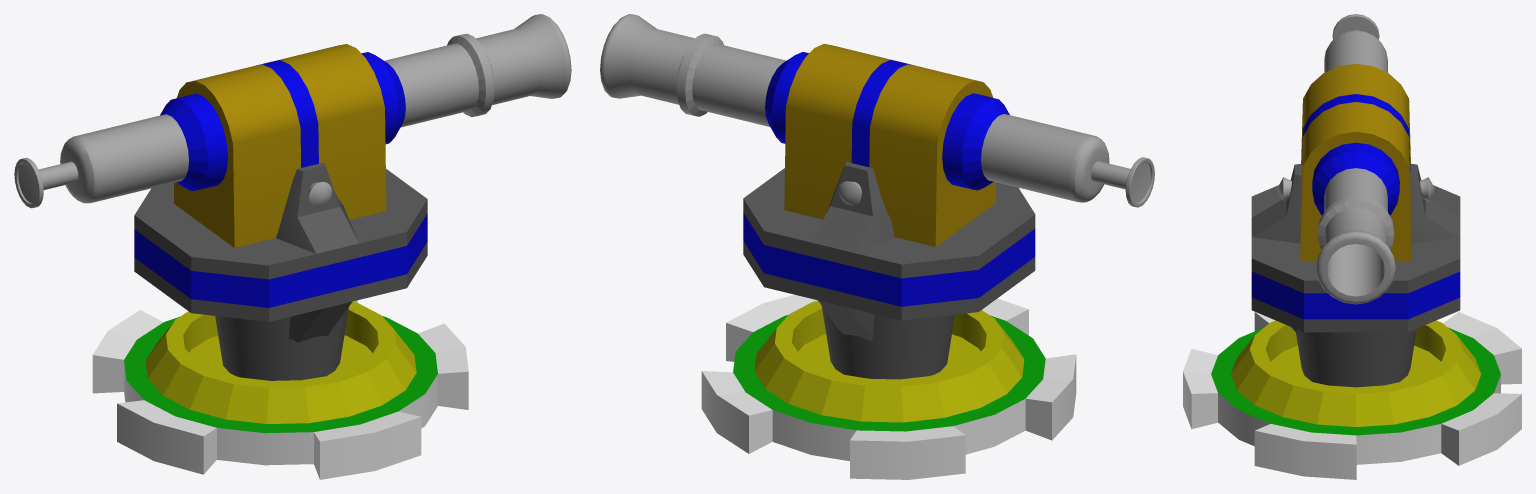
Rendered from machine8.fbx.
3 renders of one model, left to right at view 1: azimuth 30°, elevation 25°; view 2: azimuth 150°, elevation 25°; view 3: azimuth 270°, elevation 25°, orthographic. The views are drawn at different scales.
Parts seen in each view (by area): view 1: machine8body3, machine8body, machine8body2, machine8body1, machine8valve; view 2: machine8body3, machine8body, machine8body2, machine8body1, machine8valve; view 3: machine8body, machine8body3, machine8body2, machine8body1, machine8valve, machine8pin.
Boxes of the visible parts, x1=… form: machine8body3: x1=38, y1=14, x2=571, y2=247; machine8body: x1=92, y1=300, x2=468, y2=479; machine8body2: x1=134, y1=162, x2=427, y2=342; machine8body1: x1=215, y1=307, x2=348, y2=380; machine8valve: x1=14, y1=157, x2=43, y2=208; machine8body3: x1=600, y1=14, x2=1130, y2=246; machine8body: x1=701, y1=294, x2=1076, y2=479; machine8body2: x1=743, y1=162, x2=1035, y2=341; machine8body1: x1=821, y1=306, x2=954, y2=379; machine8valve: x1=1125, y1=157, x2=1154, y2=207; machine8body: x1=1183, y1=312, x2=1521, y2=479; machine8body3: x1=1300, y1=30, x2=1411, y2=304; machine8body2: x1=1251, y1=163, x2=1460, y2=333; machine8body1: x1=1296, y1=329, x2=1416, y2=387; machine8valve: x1=1332, y1=14, x2=1379, y2=39; machine8pin: x1=1277, y1=177, x2=1434, y2=200.
Bounding box in the file's own units: 184 × 112 × 112.
